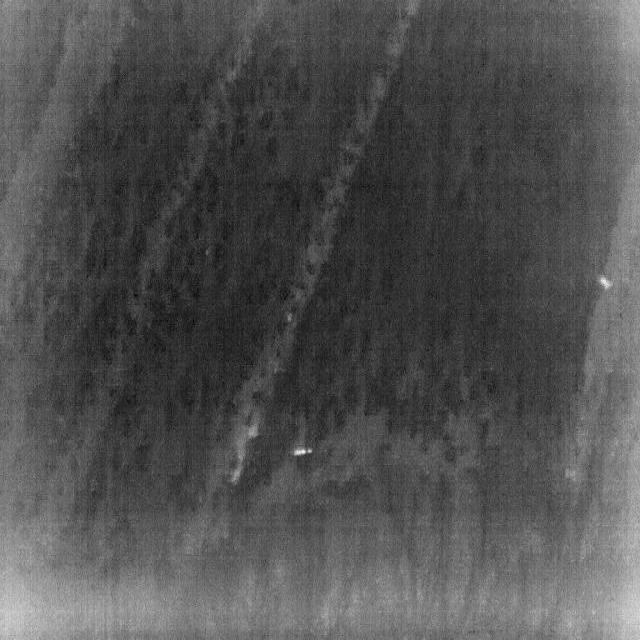deer: (598, 276, 614, 290), (294, 448, 314, 457)
